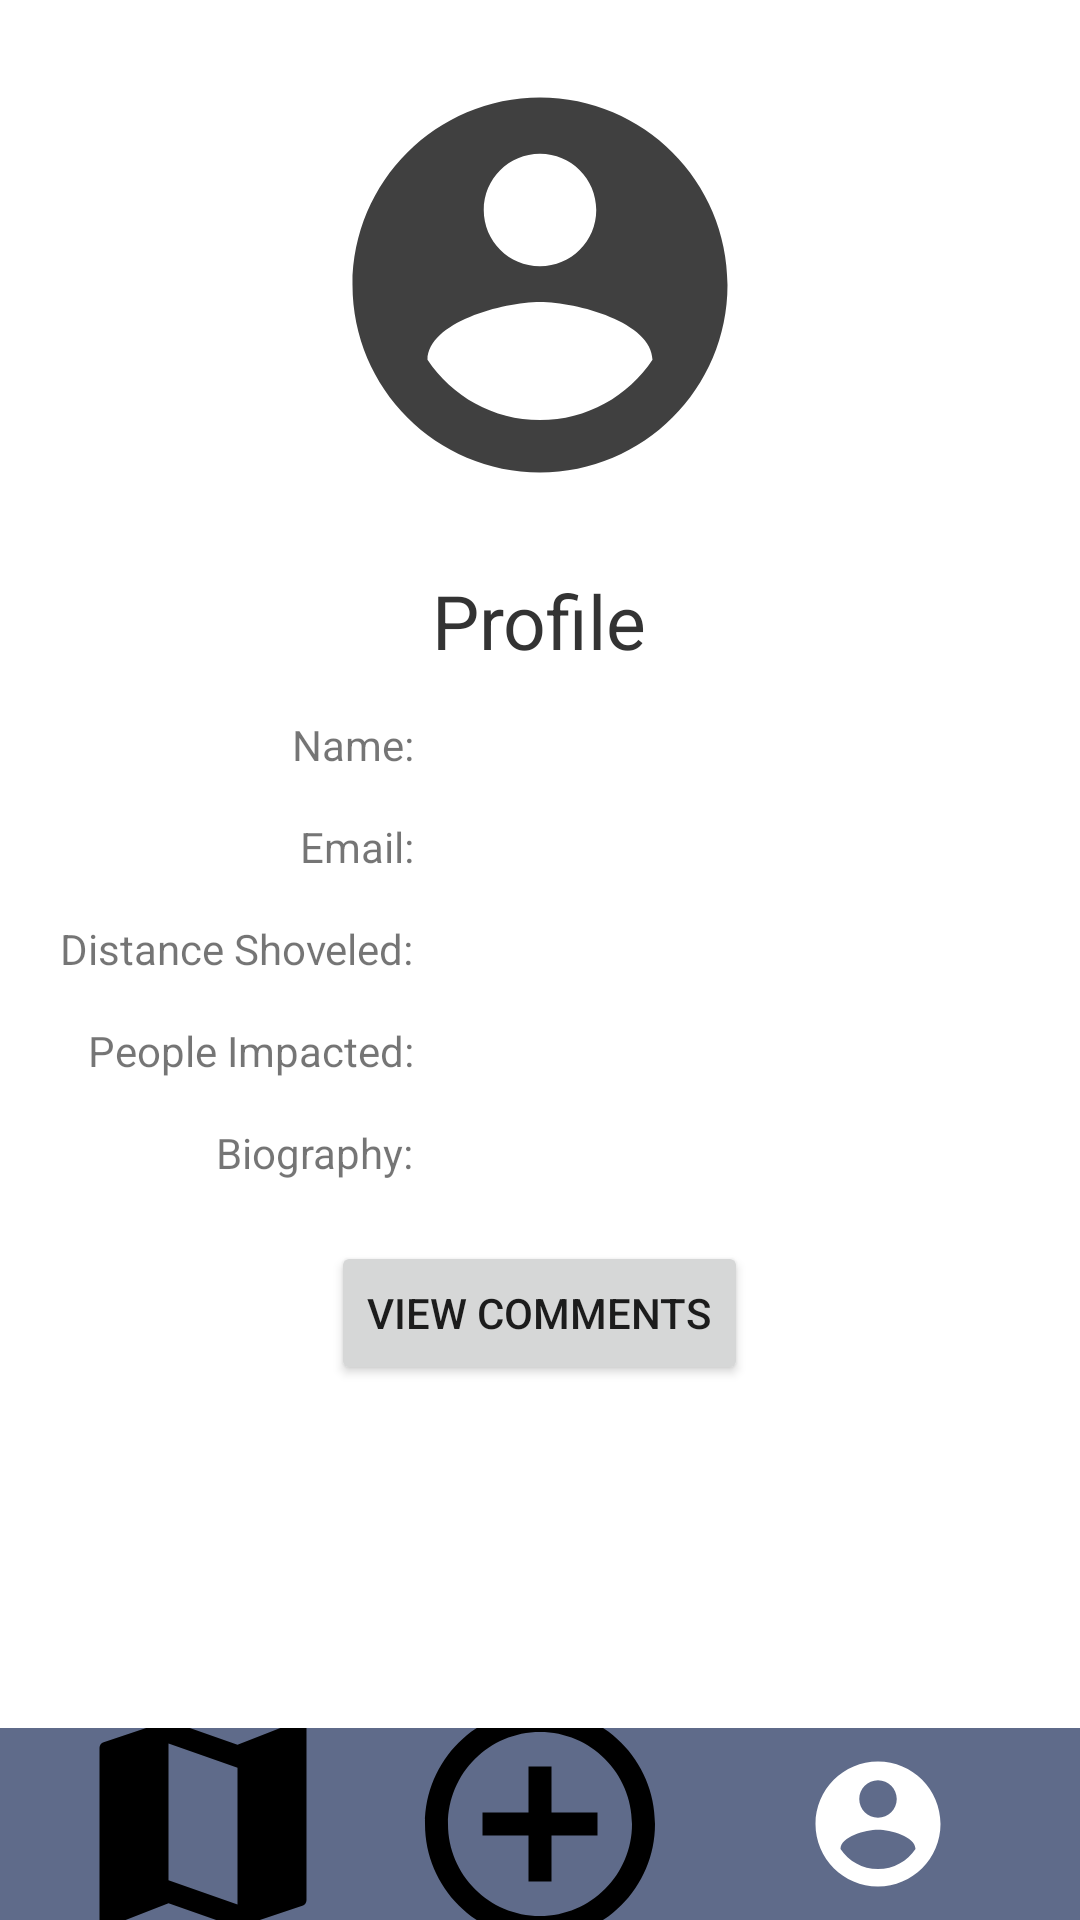

Point at icon controls on the screen. Image size 1080w x 1920h, points as (x=x, y=y).
create request: (x=540, y=1824)
